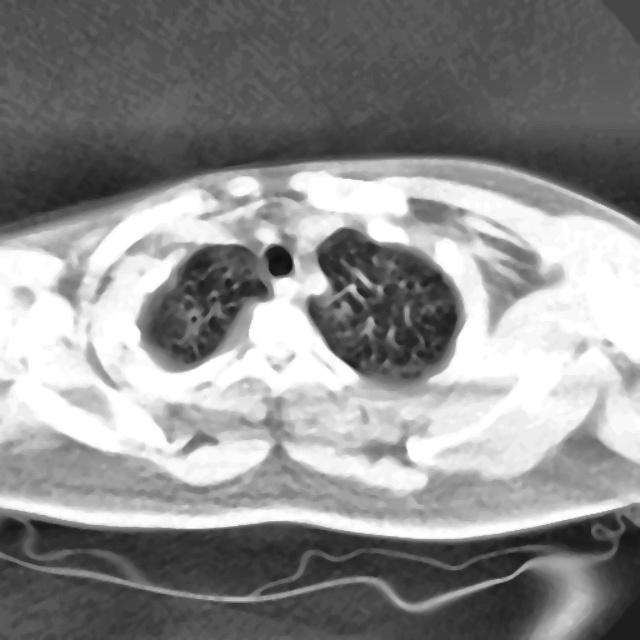covid: (0, 153, 639, 540), (305, 225, 465, 386)
